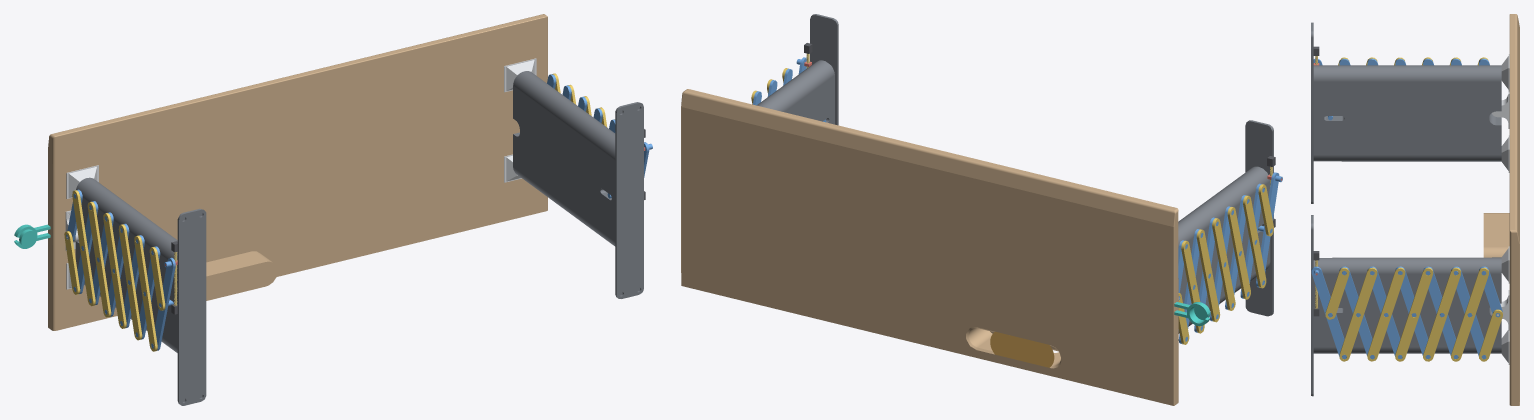
The model's file is desk.glb.
3 renders of one model, left to right at view 1: azimuth 30°, elevation 25°; view 2: azimuth 150°, elevation 25°; view 3: azimuth 270°, elevation 25°, orthographic. The views are drawn at different scales.
Parts seen in each view (by area): view 1: tabletop_3(final)-1, intermediate_base_leg-1, female-arm-1, male-arm-1, table-connector-1, Shady - bottleholder-1; view 2: tabletop_3(final)-1, intermediate_base_leg-1, female-arm-1, male-arm-1, lid4tabletopreal-1, Shady - bottleholder-1; view 3: intermediate_base_leg-1, female-arm-1, tabletop_3(final)-1, male-arm-1, table-connector-1, box_cover_motor2-1.
Boxes of the visible parts, x1=… form: tabletop_3(final)-1: x1=48, y1=14, x2=547, y2=330; intermediate_base_leg-1: x1=75, y1=71, x2=643, y2=405; female-arm-1: x1=64, y1=73, x2=614, y2=351; male-arm-1: x1=66, y1=74, x2=652, y2=350; table-connector-1: x1=65, y1=58, x2=536, y2=289; Shady - bottleholder-1: x1=14, y1=224, x2=50, y2=248; tabletop_3(final)-1: x1=681, y1=89, x2=1178, y2=405; intermediate_base_leg-1: x1=756, y1=14, x2=1273, y2=333; female-arm-1: x1=751, y1=68, x2=1273, y2=344; male-arm-1: x1=753, y1=57, x2=1282, y2=343; lid4tabletopreal-1: x1=990, y1=331, x2=1054, y2=367; Shady - bottleholder-1: x1=1174, y1=302, x2=1210, y2=326; intermediate_base_leg-1: x1=1311, y1=22, x2=1501, y2=396; female-arm-1: x1=1325, y1=57, x2=1502, y2=361; tabletop_3(final)-1: x1=1483, y1=14, x2=1519, y2=405; male-arm-1: x1=1311, y1=58, x2=1502, y2=359; table-connector-1: x1=1491, y1=54, x2=1509, y2=364; box_cover_motor2-1: x1=1313, y1=46, x2=1319, y2=316.
Bounding box in the file's own units: 2.14 × 0.75 × 0.81.
